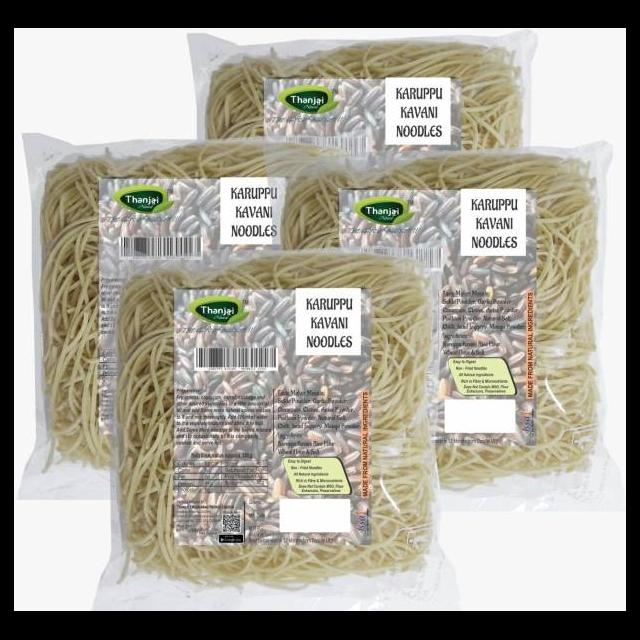noodles: (91, 218, 451, 609), (573, 569, 575, 570)
